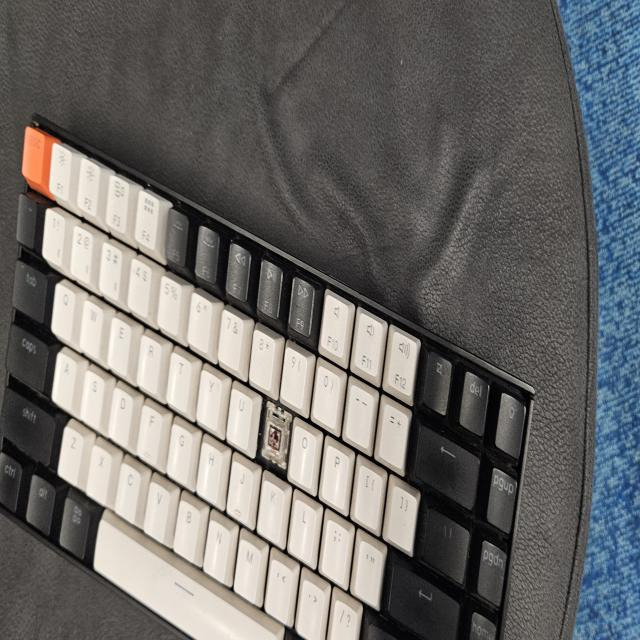C: (264, 417, 283, 463)
